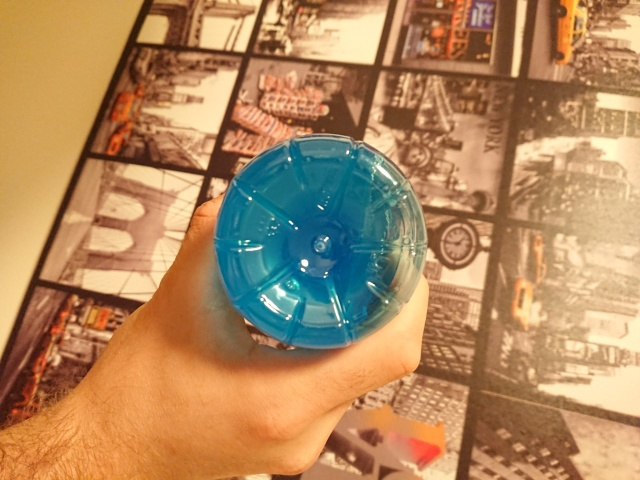Vindi Iso Sport Forest Strawberries 500mL: (210, 130, 432, 354)
